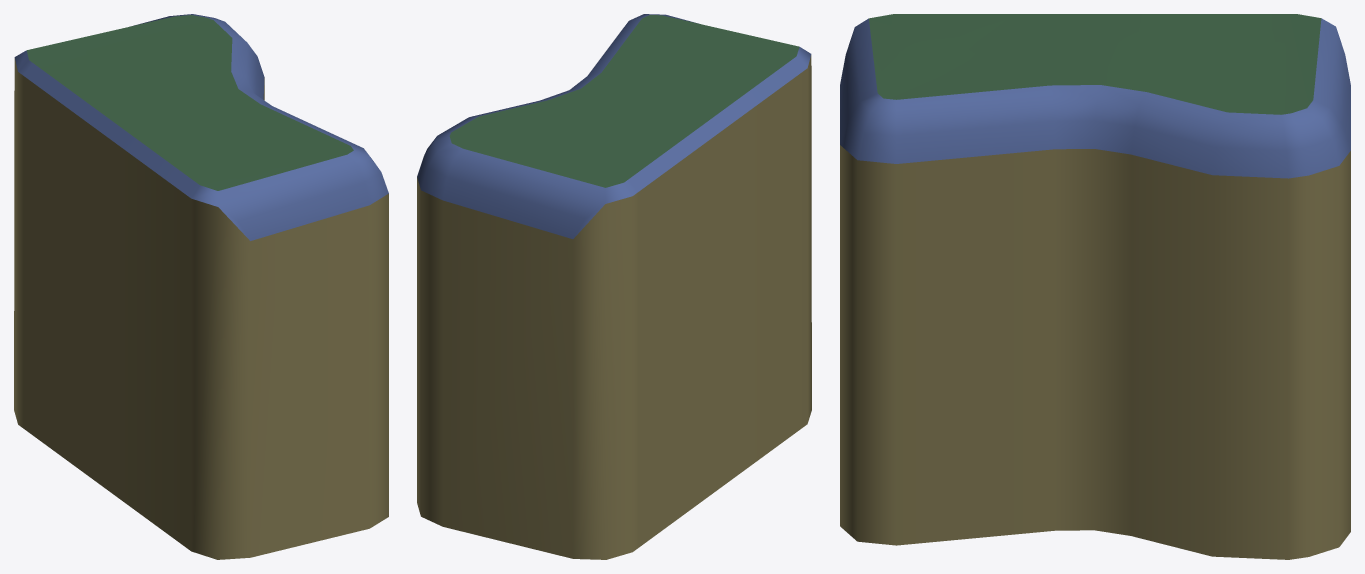
Rendered from Quinta_plat.fbx.
3 views of the same model, side by side, from view 1: azimuth 30°, elevation 25°; view 2: azimuth 150°, elevation 25°; view 3: azimuth 270°, elevation 25° (orthographic). The views are drawn at different scales.
Parts seen in each view (by area): view 1: Quinta_plat, Ground11, Wall11; view 2: Quinta_plat, Ground11, Wall11; view 3: Quinta_plat, Wall11, Ground11.
Part boxes in pixels (left/top/right/bottom): Quinta_plat: left=14, top=58, right=388, bottom=559; Ground11: left=26, top=15, right=353, bottom=190; Wall11: left=14, top=14, right=388, bottom=240; Quinta_plat: left=417, top=55, right=811, bottom=559; Ground11: left=449, top=15, right=799, bottom=187; Wall11: left=417, top=14, right=811, bottom=238; Quinta_plat: left=840, top=145, right=1350, bottom=559; Wall11: left=840, top=18, right=1350, bottom=178; Ground11: left=869, top=14, right=1321, bottom=114.
Bounding box in the file's own units: 4790 × 7753 × 8349.
